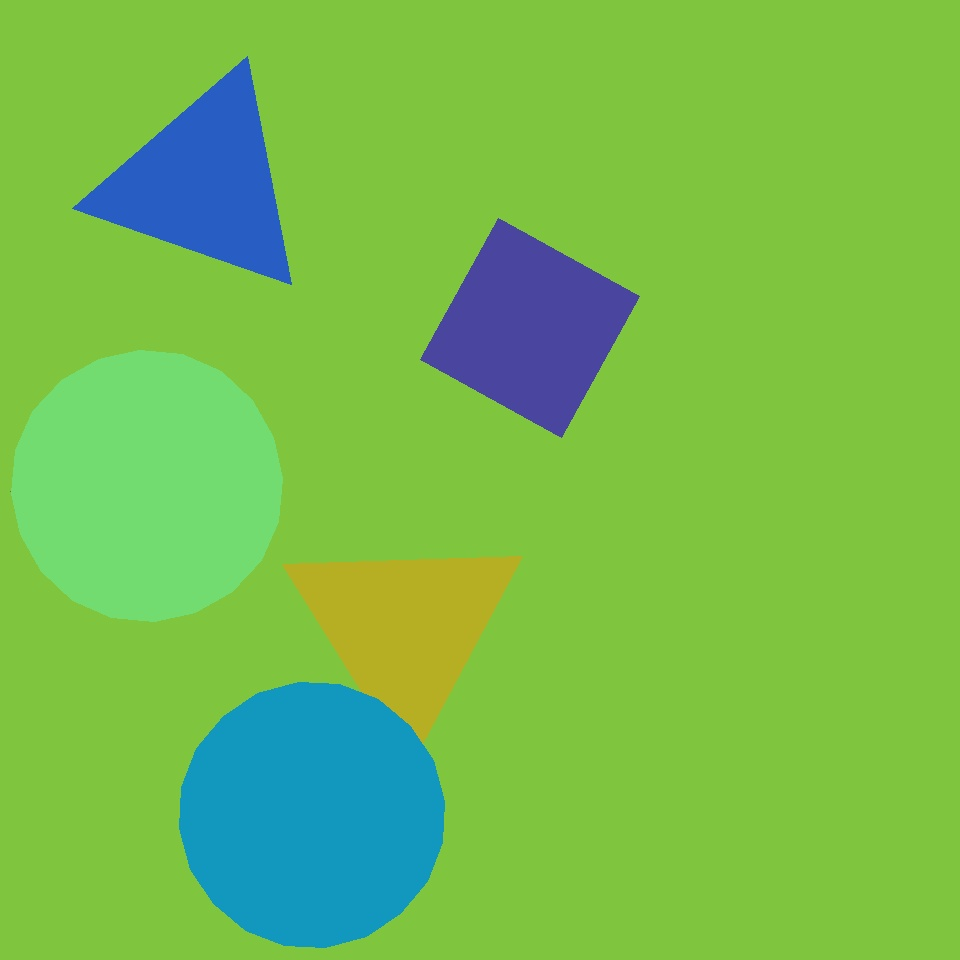circle: (285, 524, 525, 736), (94, 69, 314, 297), (13, 468, 125, 570)
square: (420, 218, 640, 438)
triangle: (12, 350, 283, 622), (180, 682, 444, 948)
